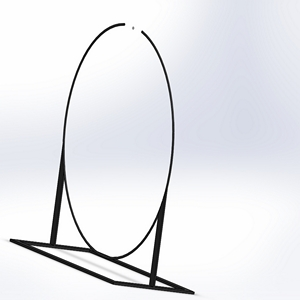circle: (9, 21, 197, 295)
